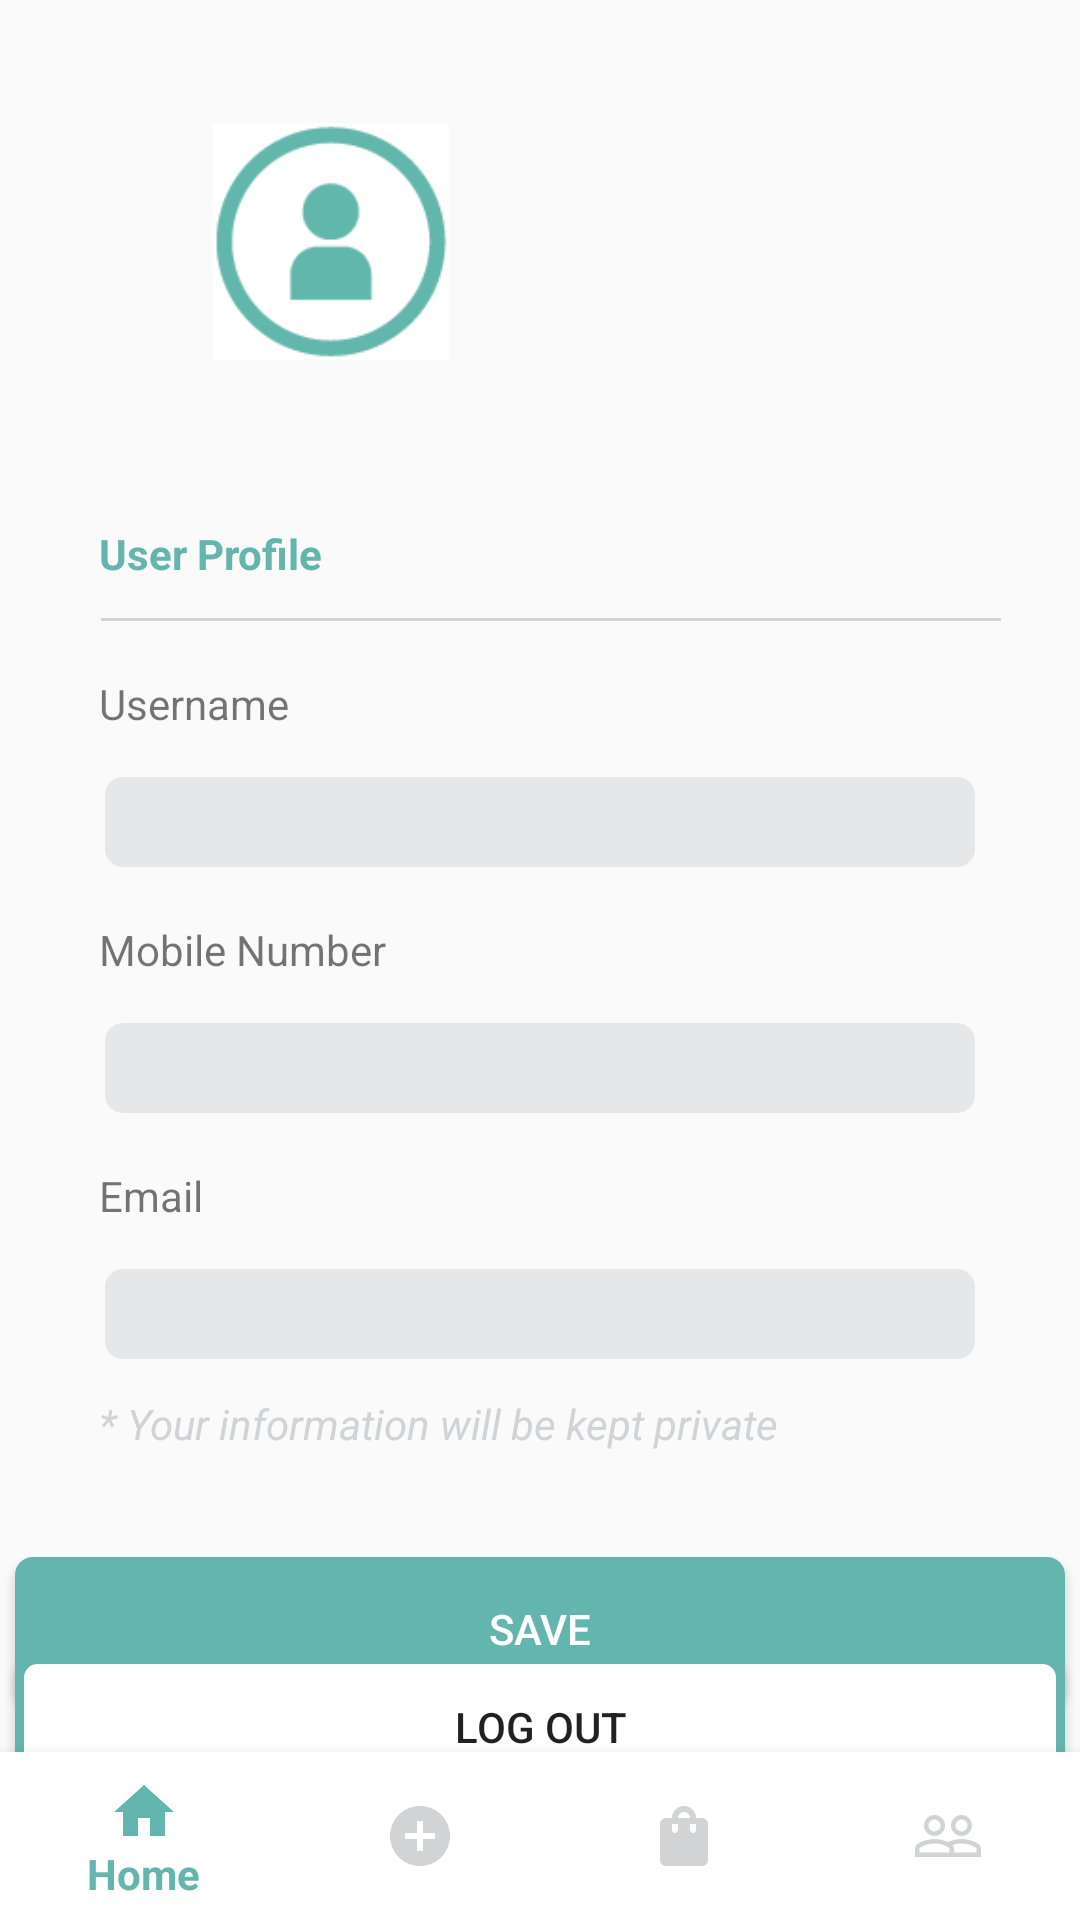

Where to tap for icons on this 1080 x 1920 app screen, as (x=x, y=y):
profileicon: (x=331, y=241)
